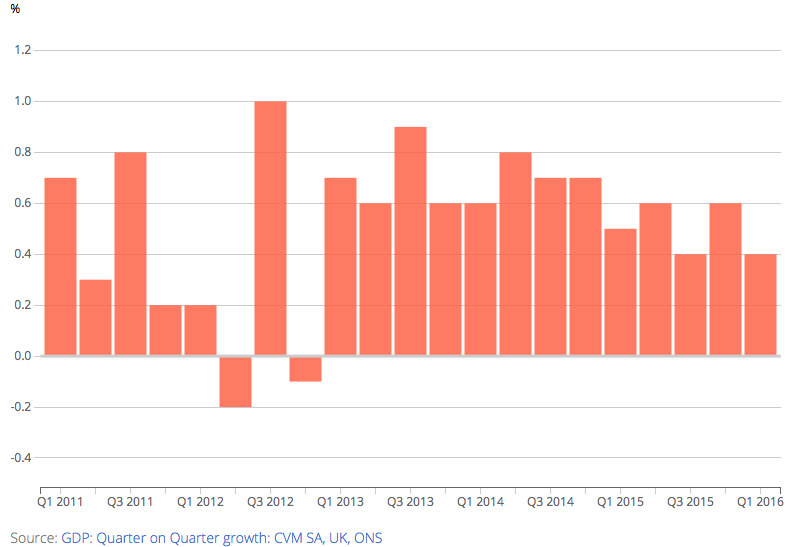OK_NoIssue: (3, 26, 790, 520)
